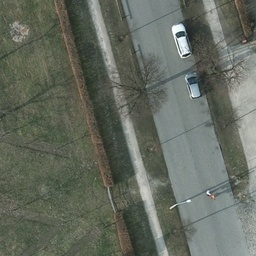car: (171, 22, 193, 58), (185, 72, 203, 100)
